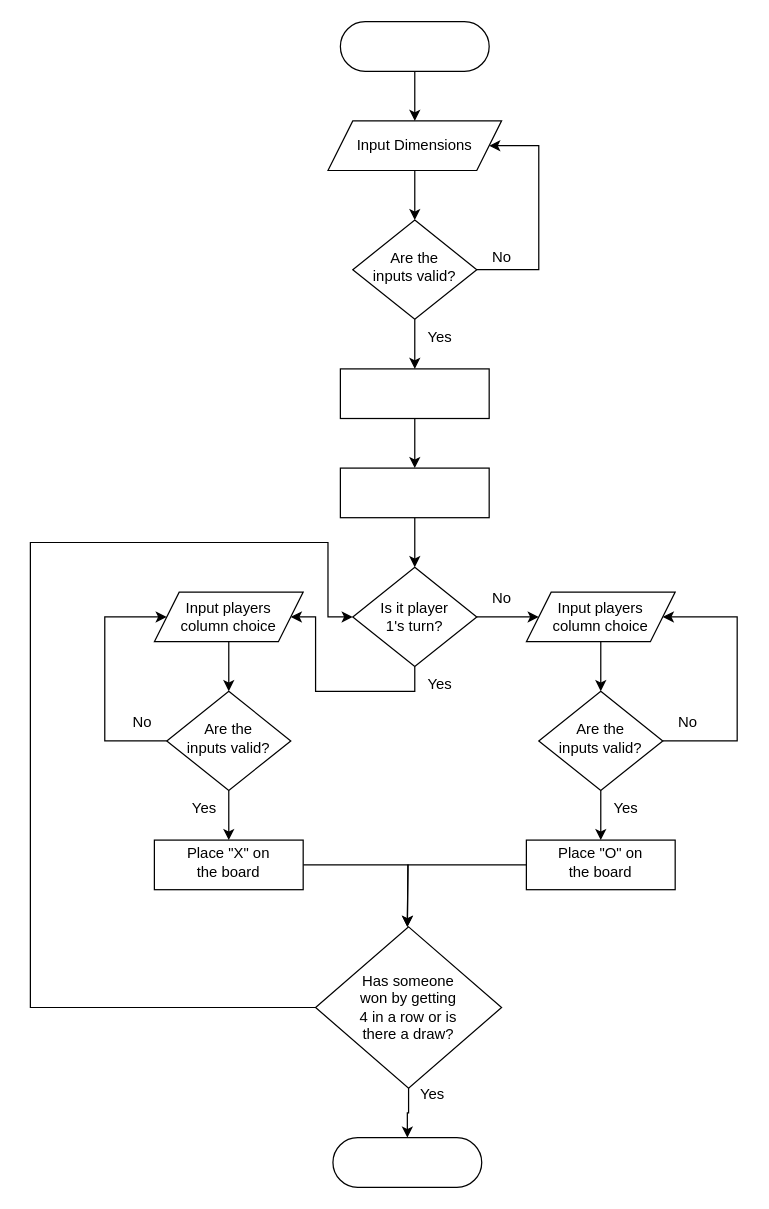
The diagram is 769 pixels wide and 1209 high, and some of its shapes have lost their labels. The box of each missing label's shape, as (x1, y1, x2, y2) in pixels:
end program: (332, 1136, 482, 1187)
Player 1 starts with "X": (339, 467, 489, 518)
Start program: (339, 20, 489, 71)
Start the game with the given inputs: (339, 368, 489, 418)
